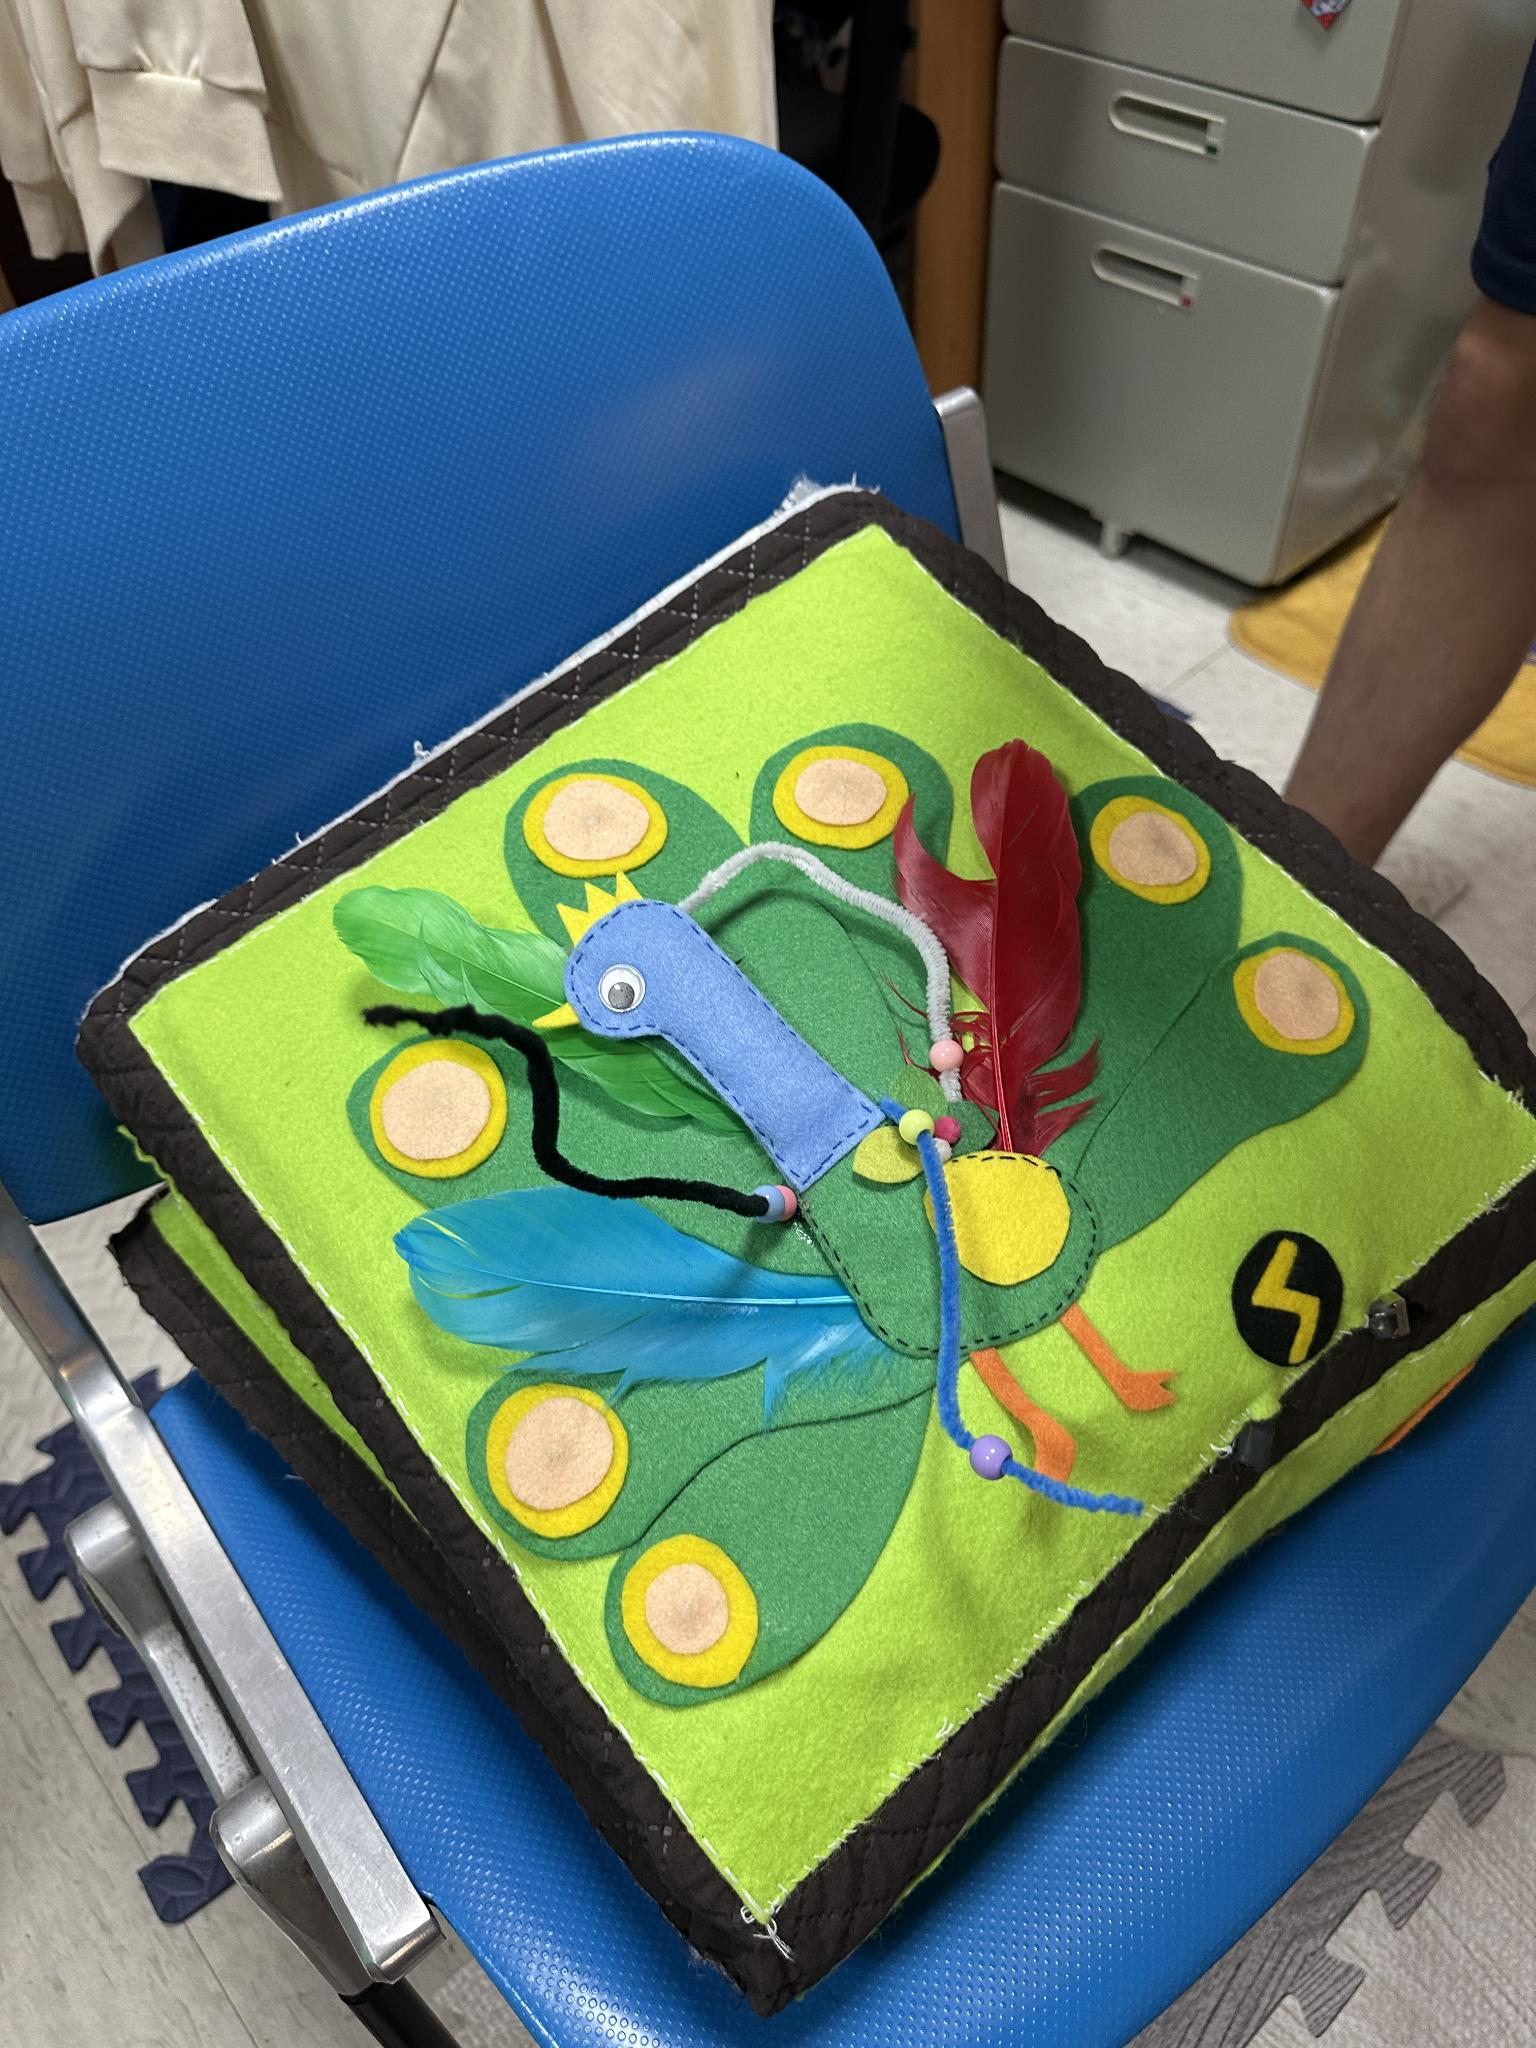bead: (915, 1029, 981, 1084), (970, 1419, 1010, 1500), (762, 1171, 810, 1227), (894, 1109, 944, 1155), (752, 1192, 771, 1234)
